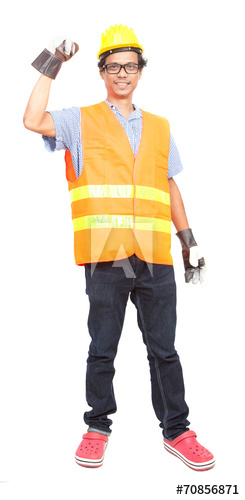Person_wearing_helmet: (89, 19, 150, 77)
